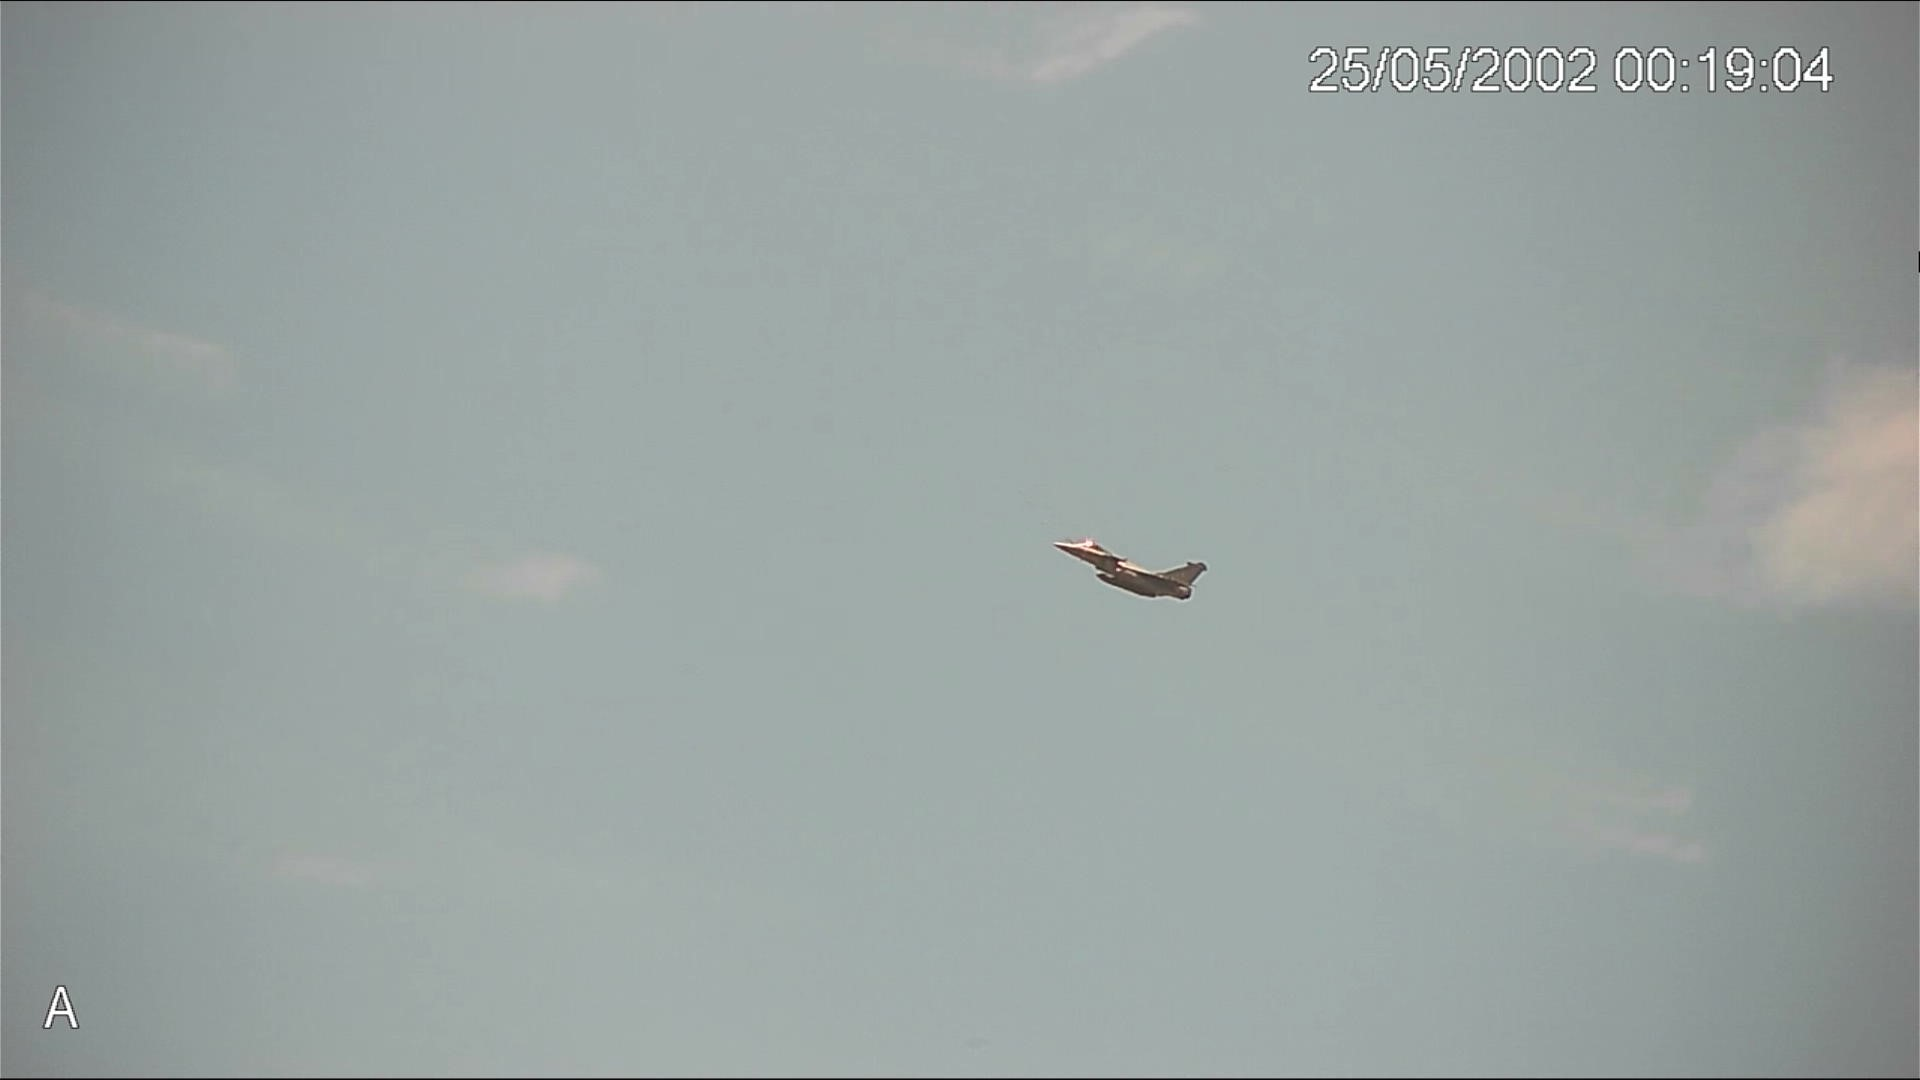SU_30: (1048, 531, 1211, 607)
